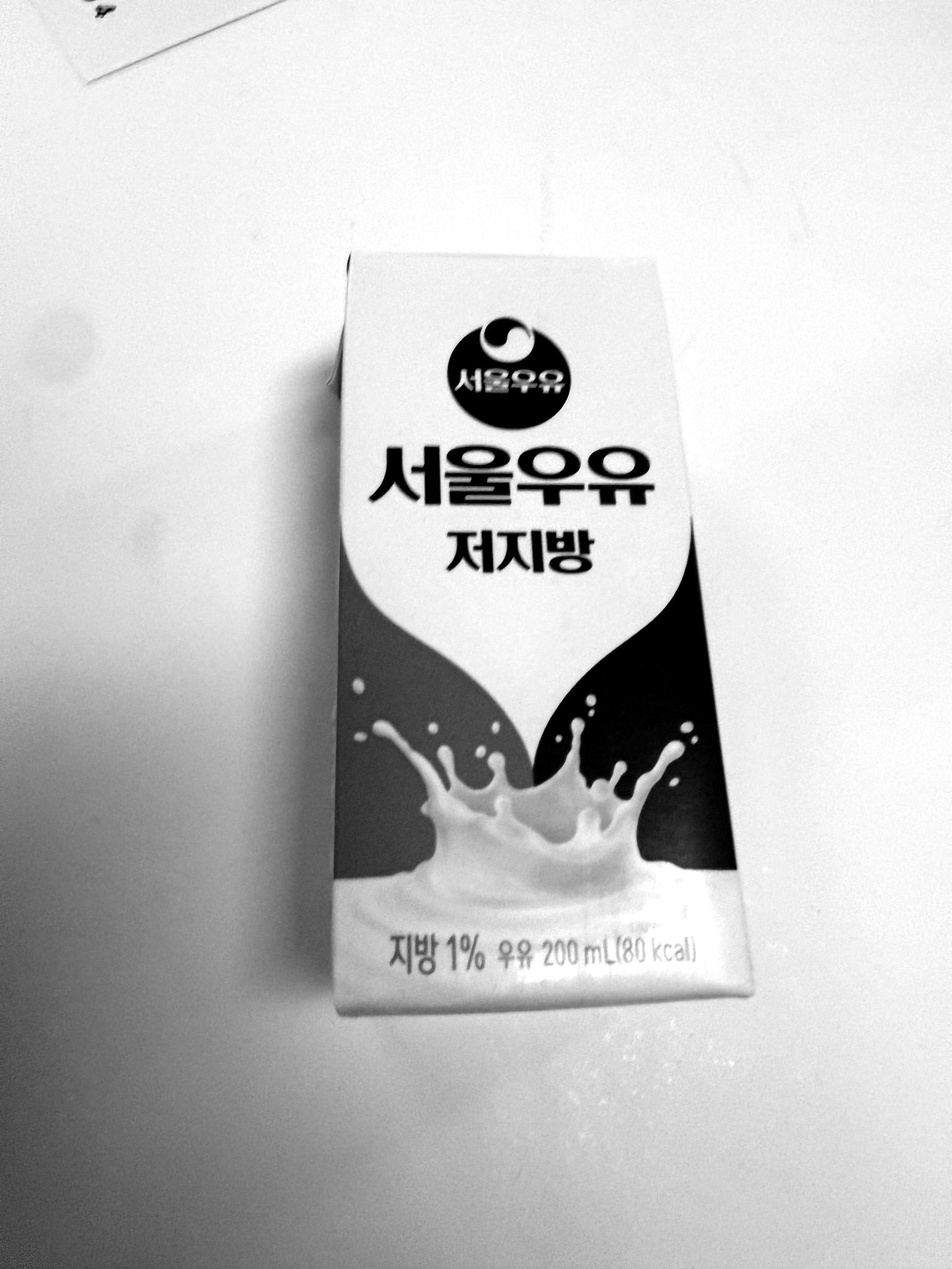milk_blue: (332, 254, 752, 1013)
